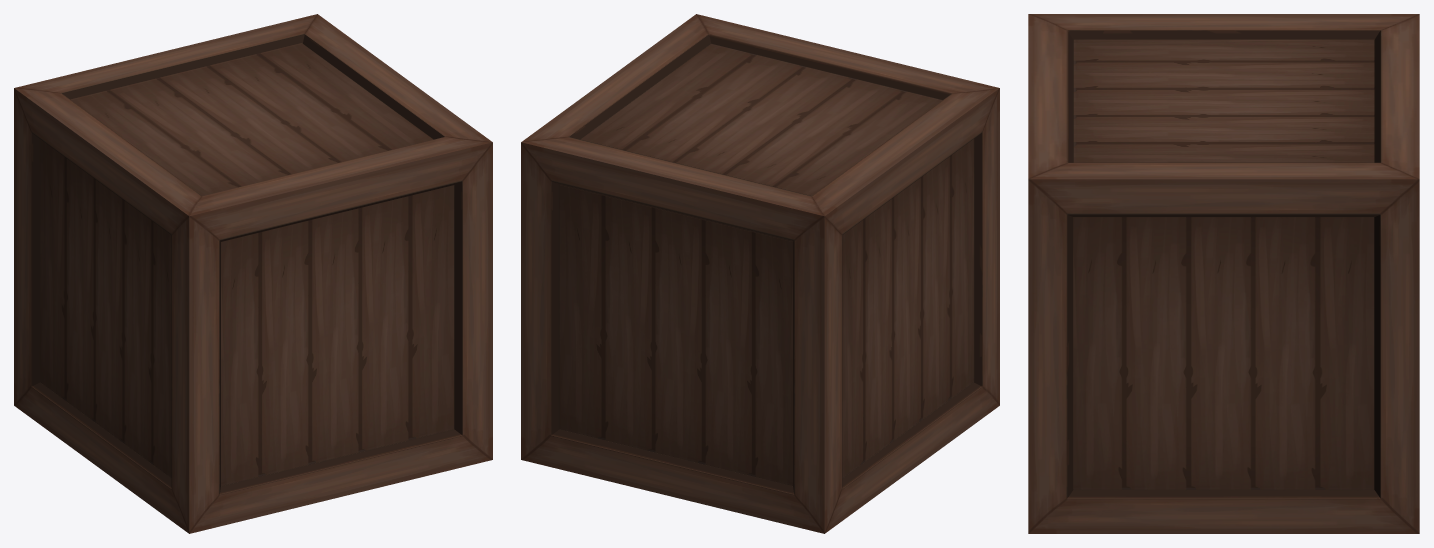
File: 3dmodel_woodencrate-var1_v2_sc.fbx
3 renders of one model, left to right at view 1: azimuth 30°, elevation 25°; view 2: azimuth 150°, elevation 25°; view 3: azimuth 270°, elevation 25°, orthographic. The views are drawn at different scales.
Visible parts, largest first — view 1: wooden_crate; view 2: wooden_crate; view 3: wooden_crate.
Part boxes in pixels (x1,y1,x2,y2): wooden_crate: (14,14,492,533); wooden_crate: (521,14,999,533); wooden_crate: (1028,14,1419,533).
Size of the model in its own units: 1.6 by 1.6 by 1.6.
